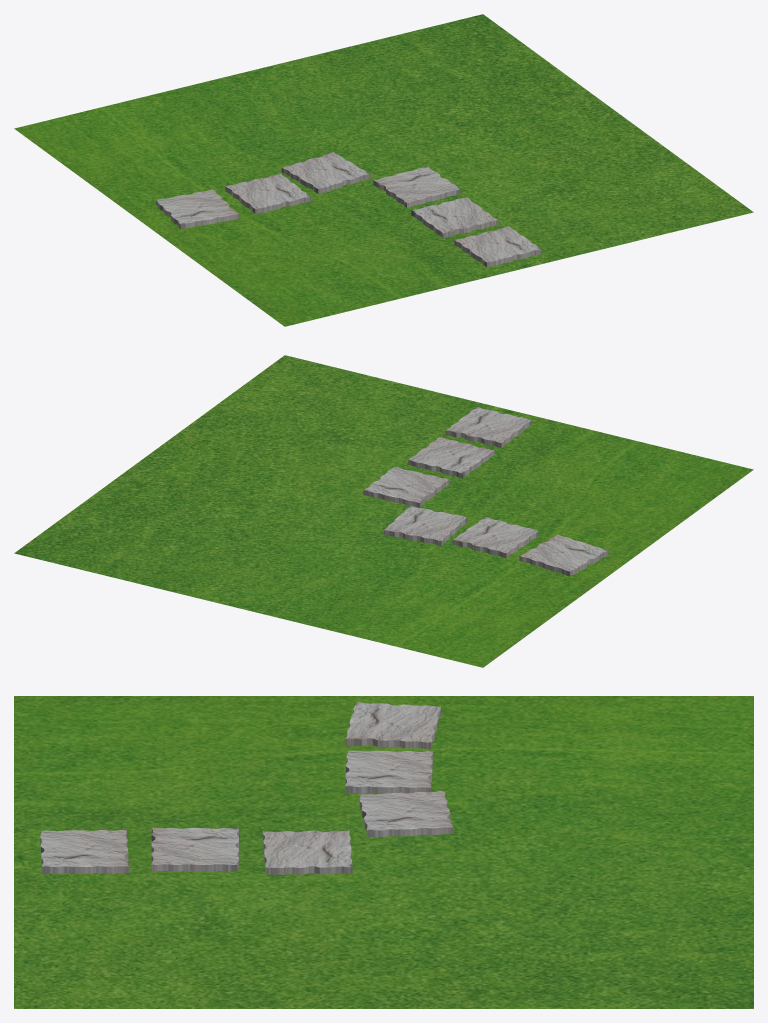
Rendered from pathWS.glb.
3 renders of one model, top to bottom at view 1: azimuth 30°, elevation 25°; view 2: azimuth 150°, elevation 25°; view 3: azimuth 270°, elevation 25°, orthographic. The views are drawn at different scales.
Parts seen in each view (by area): view 1: Plane, Plane.004, Plane.003, Plane.005, Plane.001, Plane.007, Plane.006; view 2: Plane, Plane.007, Plane.004, Plane.003, Plane.001, Plane.005, Plane.006; view 3: Plane, Plane.007, Plane.004, Plane.003, Plane.001, Plane.005, Plane.006.
Part boxes in pixels (left/top/right/bottom): Plane: left=14, top=14, right=753, bottom=326; Plane.004: left=373, top=166, right=460, bottom=207; Plane.003: left=411, top=197, right=498, bottom=238; Plane.005: left=281, top=152, right=370, bottom=193; Plane.001: left=454, top=226, right=541, bottom=267; Plane.007: left=156, top=189, right=238, bottom=229; Plane.006: left=225, top=173, right=311, bottom=213; Plane: left=14, top=355, right=753, bottom=667; Plane.007: left=519, top=534, right=608, bottom=576; Plane.004: left=363, top=467, right=449, bottom=507; Plane.003: left=408, top=437, right=494, bottom=478; Plane.001: left=445, top=407, right=531, bottom=447; Plane.005: left=383, top=506, right=467, bottom=545; Plane.006: left=452, top=517, right=538, bottom=558; Plane: left=14, top=696, right=753, bottom=1008; Plane.007: left=345, top=702, right=441, bottom=749; Plane.004: left=262, top=830, right=352, bottom=874; Plane.003: left=151, top=828, right=238, bottom=871; Plane.001: left=40, top=830, right=128, bottom=873; Plane.005: left=359, top=791, right=453, bottom=837; Plane.006: left=345, top=750, right=433, bottom=793.
Bounding box in the file's own units: 1 × 0.0123 × 1.
2 materials, 2 textured.
